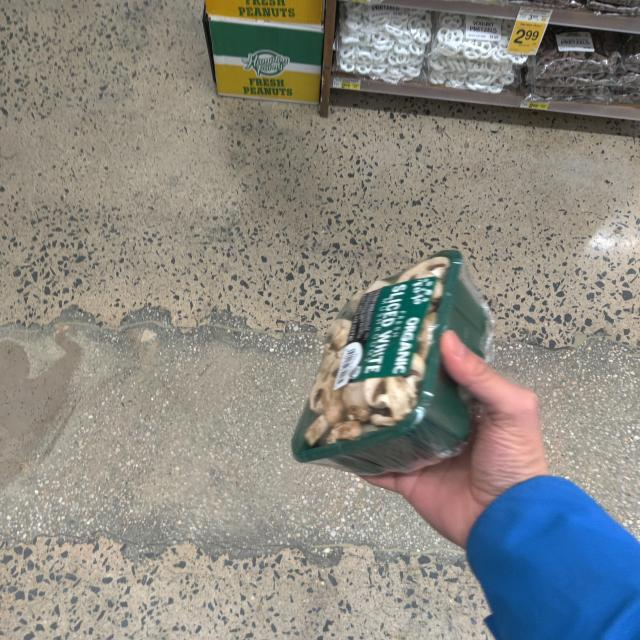Mushrooms: (276, 241, 508, 488)
